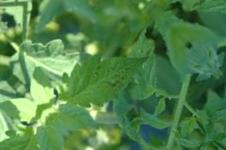Tomato leaf bacterial spot: (43, 18, 157, 133)
